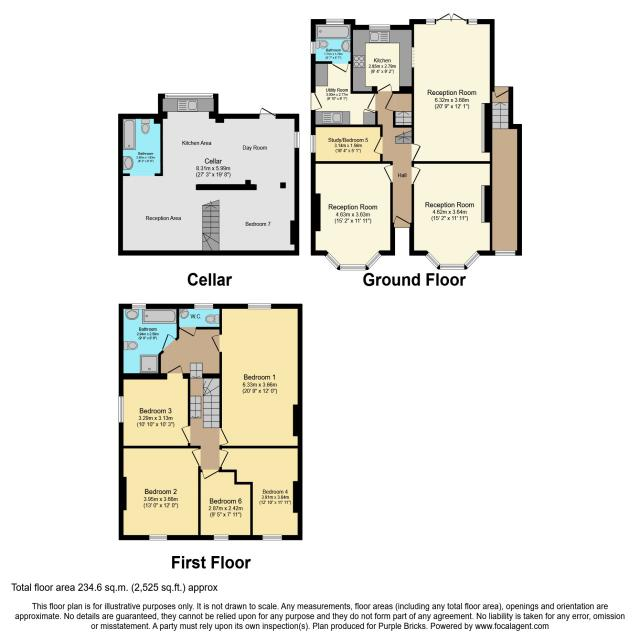DOOR: (436, 13, 466, 24), (162, 333, 178, 353), (166, 364, 184, 380), (310, 92, 323, 111), (366, 93, 378, 112), (384, 93, 396, 112), (210, 334, 222, 353), (179, 326, 197, 338), (201, 469, 219, 481), (180, 425, 191, 444), (219, 427, 230, 446), (190, 448, 201, 467), (219, 449, 230, 468), (493, 86, 509, 99), (259, 107, 276, 119), (332, 61, 349, 73), (411, 143, 422, 161), (373, 136, 383, 155), (383, 164, 393, 183), (394, 214, 411, 225), (378, 83, 393, 94)
ROOM: (211, 304, 303, 449), (409, 13, 495, 165), (310, 161, 395, 270), (409, 160, 493, 270), (218, 445, 303, 540), (118, 445, 201, 541), (118, 364, 191, 449), (311, 61, 378, 128), (350, 24, 414, 94), (198, 469, 253, 540), (311, 124, 383, 164)
WINDOW: (365, 250, 382, 270), (164, 93, 214, 99), (324, 252, 341, 269), (464, 251, 480, 269), (425, 252, 441, 269), (339, 264, 366, 271), (247, 303, 272, 310), (118, 396, 124, 423), (369, 24, 391, 31), (440, 264, 465, 270), (194, 303, 214, 310), (148, 534, 168, 541), (262, 534, 282, 541), (326, 18, 344, 25), (495, 250, 516, 256), (213, 534, 229, 541), (310, 135, 316, 153), (131, 303, 146, 310), (294, 131, 300, 148), (310, 41, 316, 55), (468, 18, 478, 25), (426, 18, 435, 25)
